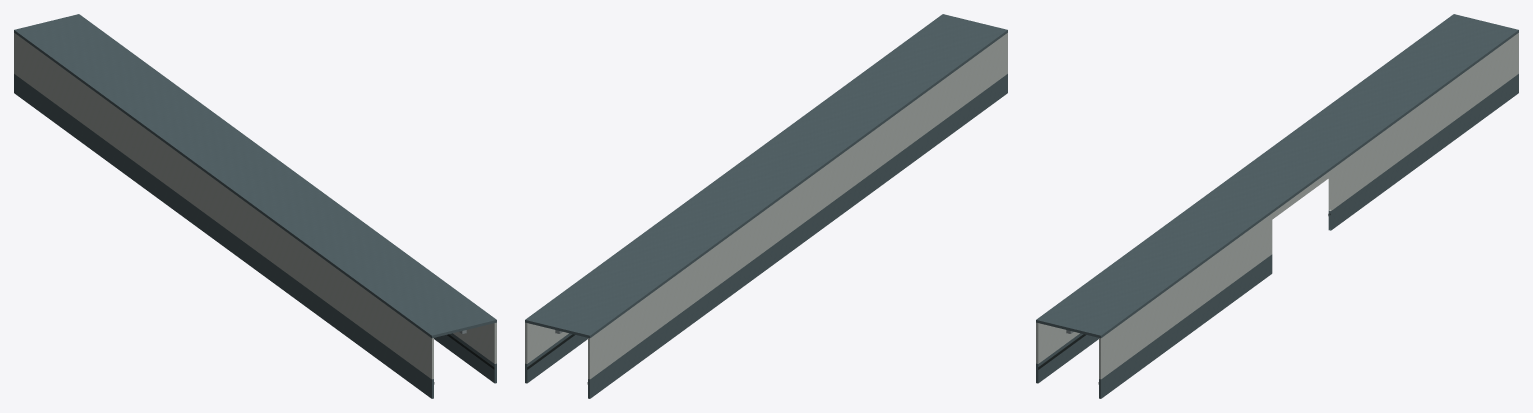
File: D04_PORT_CENTRAL_STAFF_WALL_PATCH_r001.glb
3 renders of one model, left to right at view 1: azimuth 30°, elevation 25°; view 2: azimuth 150°, elevation 25°; view 3: azimuth 330°, elevation 25°, orthographic.
Parts seen in each view (by area): view 1: HOME_BATCH_037_ASTRAEA_staff_bluegrey_paint, HOME_BATCH_036_ASTRAEA_staff_bluegrey_paint, HOME_BATCH_204_ASTRAEA_staff_white_paint, HOME_BATCH_203_ASTRAEA_staff_white_paint; view 2: HOME_BATCH_036_ASTRAEA_staff_bluegrey_paint, HOME_BATCH_037_ASTRAEA_staff_bluegrey_paint, HOME_BATCH_203_ASTRAEA_staff_white_paint, HOME_BATCH_204_ASTRAEA_staff_white_paint; view 3: HOME_BATCH_037_ASTRAEA_staff_bluegrey_paint, HOME_BATCH_036_ASTRAEA_staff_bluegrey_paint, HOME_BATCH_204_ASTRAEA_staff_white_paint, HOME_BATCH_203_ASTRAEA_staff_white_paint.
Part boxes in pixels (x1,y1,x2,y2): HOME_BATCH_037_ASTRAEA_staff_bluegrey_paint: (223, 167, 496, 398); HOME_BATCH_036_ASTRAEA_staff_bluegrey_paint: (14, 14, 287, 245); HOME_BATCH_204_ASTRAEA_staff_white_paint: (223, 186, 496, 379); HOME_BATCH_203_ASTRAEA_staff_white_paint: (14, 33, 222, 226); HOME_BATCH_036_ASTRAEA_staff_bluegrey_paint: (525, 167, 798, 398); HOME_BATCH_037_ASTRAEA_staff_bluegrey_paint: (734, 14, 1007, 245); HOME_BATCH_203_ASTRAEA_staff_white_paint: (525, 186, 798, 379); HOME_BATCH_204_ASTRAEA_staff_white_paint: (799, 33, 1007, 226); HOME_BATCH_037_ASTRAEA_staff_bluegrey_paint: (1036, 167, 1309, 398); HOME_BATCH_036_ASTRAEA_staff_bluegrey_paint: (1245, 14, 1518, 230); HOME_BATCH_204_ASTRAEA_staff_white_paint: (1036, 186, 1309, 379); HOME_BATCH_203_ASTRAEA_staff_white_paint: (1310, 33, 1518, 210).
Size of the model in its own units: 3.6 by 3.34 by 40.
4 materials, 4 textured.
